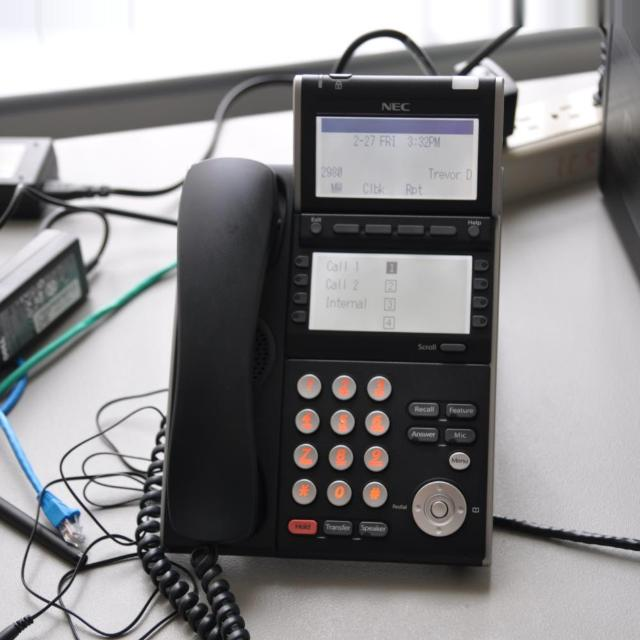Telephone-Set: (158, 71, 504, 569)
